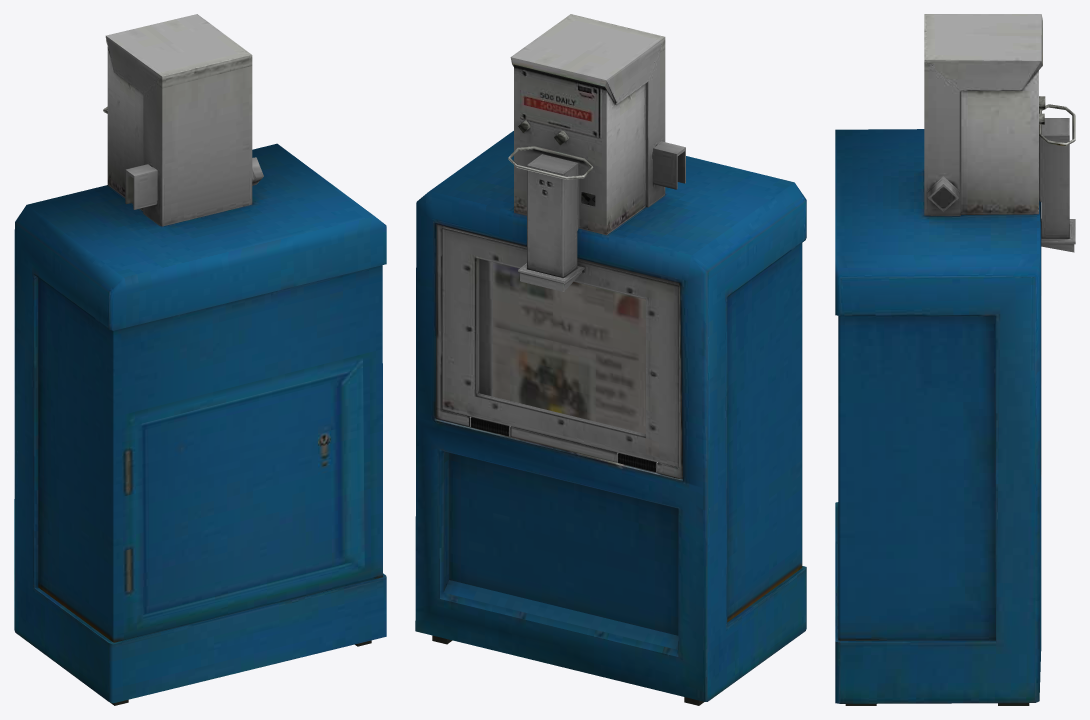
File: Newspaper_Vending_Machine.glb
3 views of the same model, side by side, from view 1: azimuth 30°, elevation 25°; view 2: azimuth 150°, elevation 25°; view 3: azimuth 270°, elevation 25° (orthographic). The views are drawn at different scales.
Visible parts, largest first — view 1: Newspaper_Vending_Machine__LOD3; view 2: Newspaper_Vending_Machine__LOD3; view 3: Newspaper_Vending_Machine__LOD3.
Boxes of the visible parts, box(x1,y1,x2,y2) form: Newspaper_Vending_Machine__LOD3: box(14, 14, 386, 705); Newspaper_Vending_Machine__LOD3: box(415, 14, 806, 705); Newspaper_Vending_Machine__LOD3: box(835, 14, 1075, 705).
Bounding box in the file's own units: 0.7244 × 1.45 × 0.523.
1 material, 1 textured.
